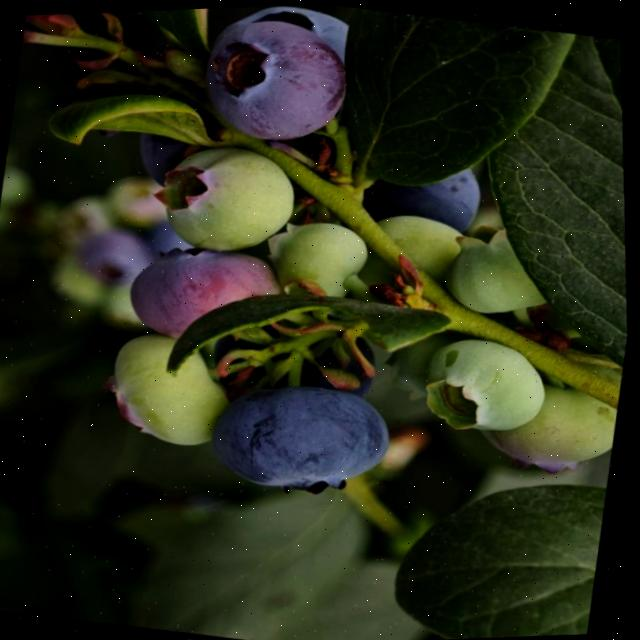RipeBlueBerry: (202, 354, 416, 516)
Semi-RipeBlueBerry: (170, 5, 371, 151)
UnripeBlueBerry: (112, 116, 320, 266), (108, 214, 303, 358), (419, 314, 561, 451)
